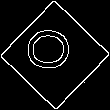O_E: (29, 33, 81, 77)
